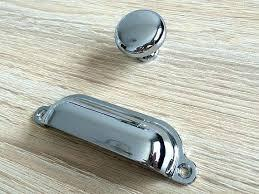handle: (28, 95, 217, 181), (110, 11, 184, 80)
